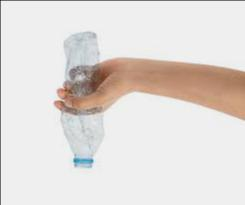Plastic: (56, 22, 106, 175)
